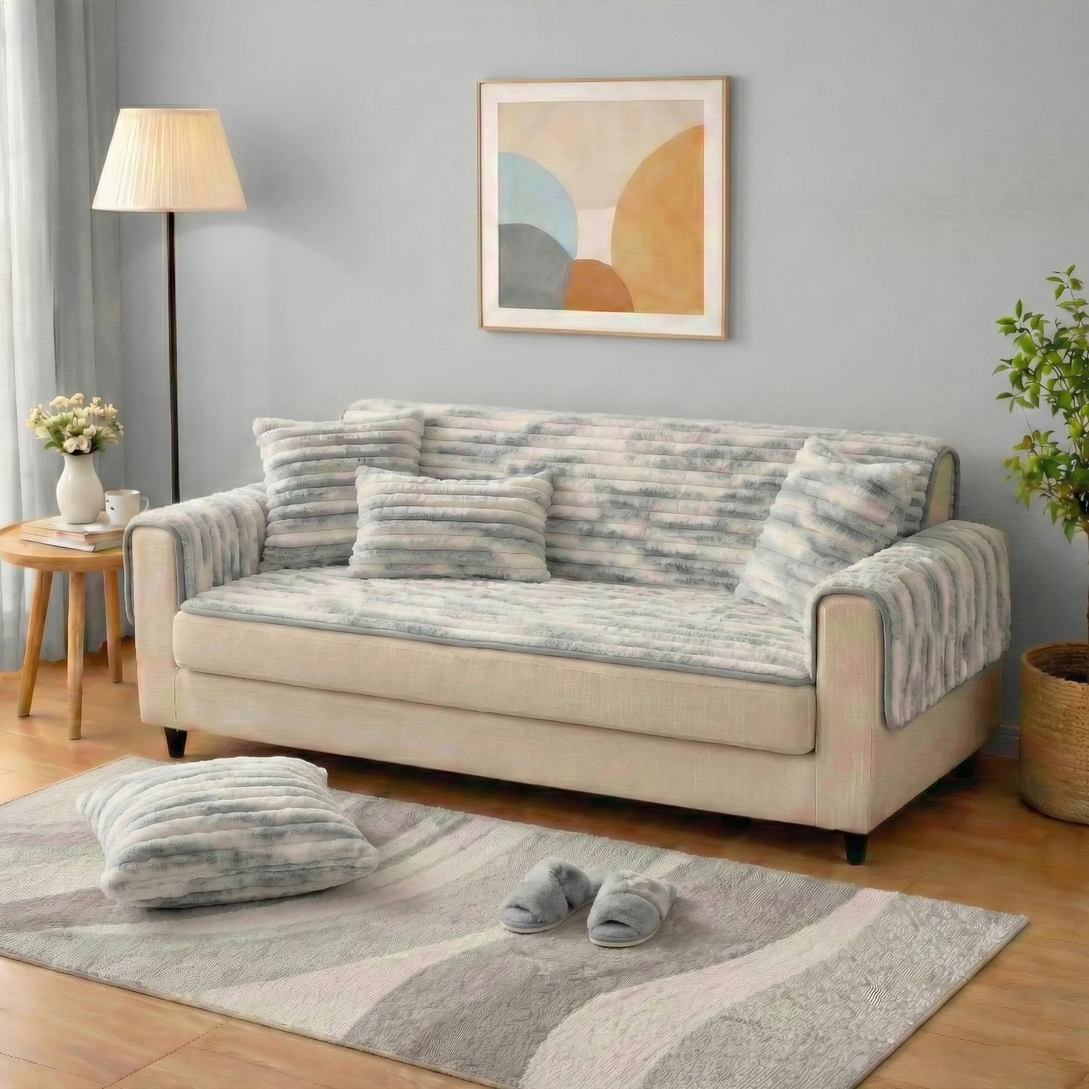3seatersofa: (123, 400, 1011, 864)
backrest: (345, 400, 964, 590)
base: (175, 670, 814, 822)
leftarmrest: (811, 521, 1009, 831)
leg: (843, 832, 867, 864), (164, 727, 186, 759)
pillow: (254, 410, 552, 582), (737, 437, 916, 613)
rightarmrest: (124, 484, 265, 727)
seat: (173, 568, 815, 754)
